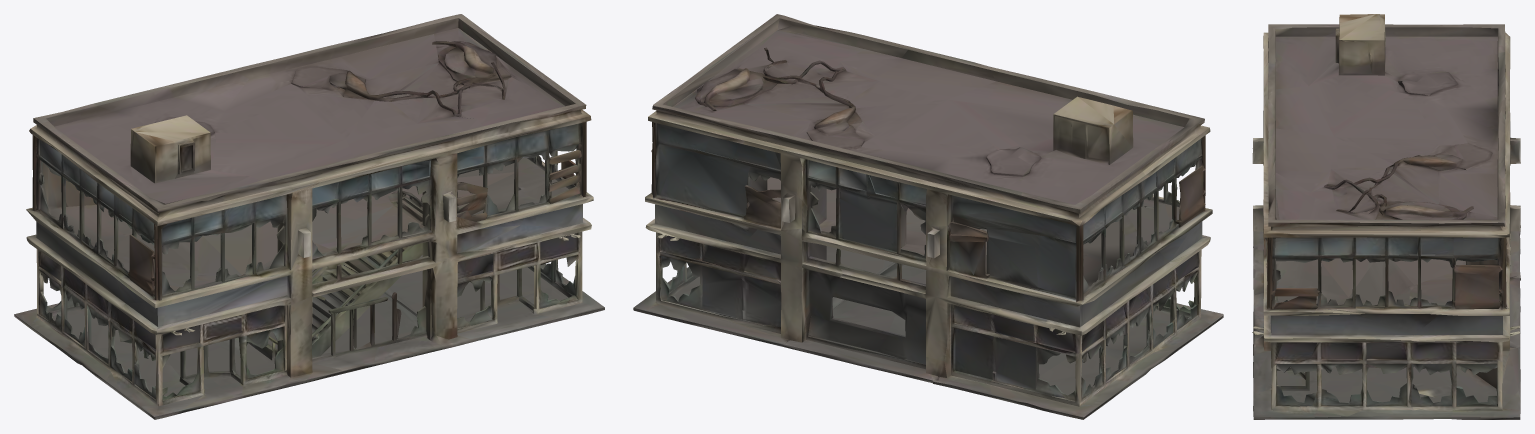
The model's file is shop_grocery_bld_idle.glb.
3 renders of one model, left to right at view 1: azimuth 30°, elevation 25°; view 2: azimuth 150°, elevation 25°; view 3: azimuth 270°, elevation 25°, orthographic. The views are drawn at different scales.
Visible parts, largest first — view 1: tripo_node_dd37ddcb-dbf3-472e-847b-2746839b6a80; view 2: tripo_node_dd37ddcb-dbf3-472e-847b-2746839b6a80; view 3: tripo_node_dd37ddcb-dbf3-472e-847b-2746839b6a80.
Part boxes in pixels (x1=…): tripo_node_dd37ddcb-dbf3-472e-847b-2746839b6a80: x1=14, y1=14, x2=604, y2=419; tripo_node_dd37ddcb-dbf3-472e-847b-2746839b6a80: x1=633, y1=14, x2=1223, y2=419; tripo_node_dd37ddcb-dbf3-472e-847b-2746839b6a80: x1=1252, y1=14, x2=1520, y2=419.
Size of the model in its own units: 10 by 4.86 by 5.43.
1 material, 1 textured.
